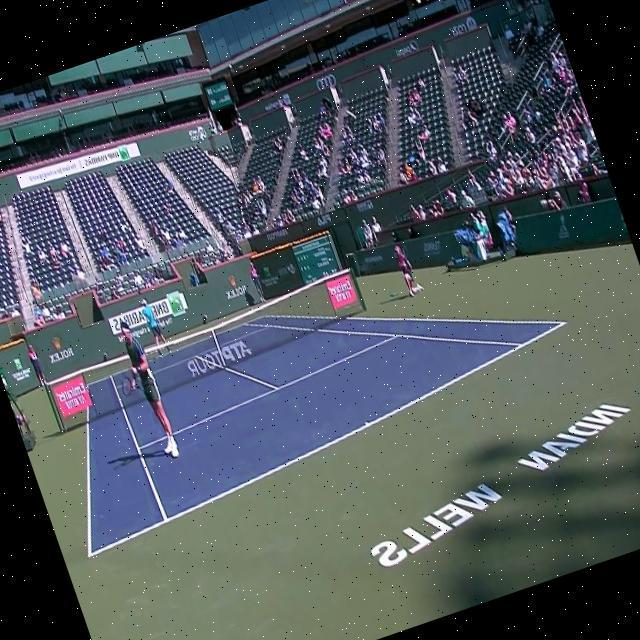court: (32, 222, 590, 558)
net: (39, 263, 376, 437)
player: (100, 315, 182, 467)
